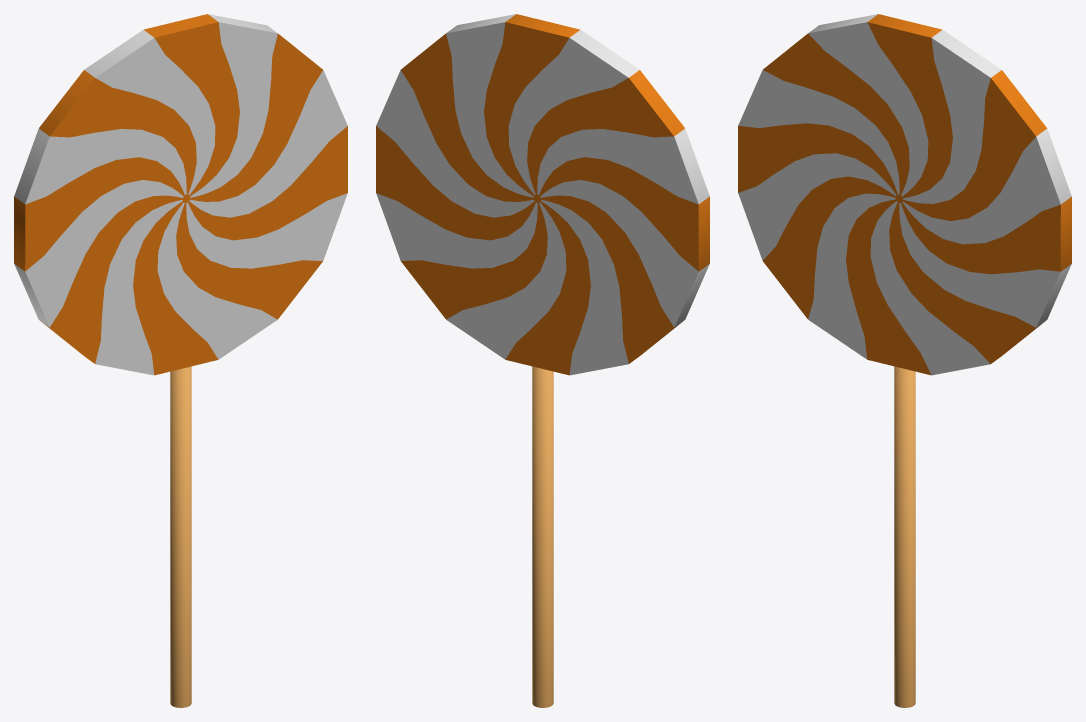
The model's file is PIRULETA 2.fbx.
3 renders of one model, left to right at view 1: azimuth 30°, elevation 25°; view 2: azimuth 150°, elevation 25°; view 3: azimuth 330°, elevation 25°, orthographic.
Visible parts, largest first — view 1: Piruleta 2.002; view 2: Piruleta 2.002; view 3: Piruleta 2.002.
Part boxes in pixels (bbox=[...]): Piruleta 2.002: bbox=[14, 14, 347, 707]; Piruleta 2.002: bbox=[376, 14, 709, 707]; Piruleta 2.002: bbox=[738, 14, 1071, 707].
Size of the model in its own units: 1098 by 2203 by 65.22.
